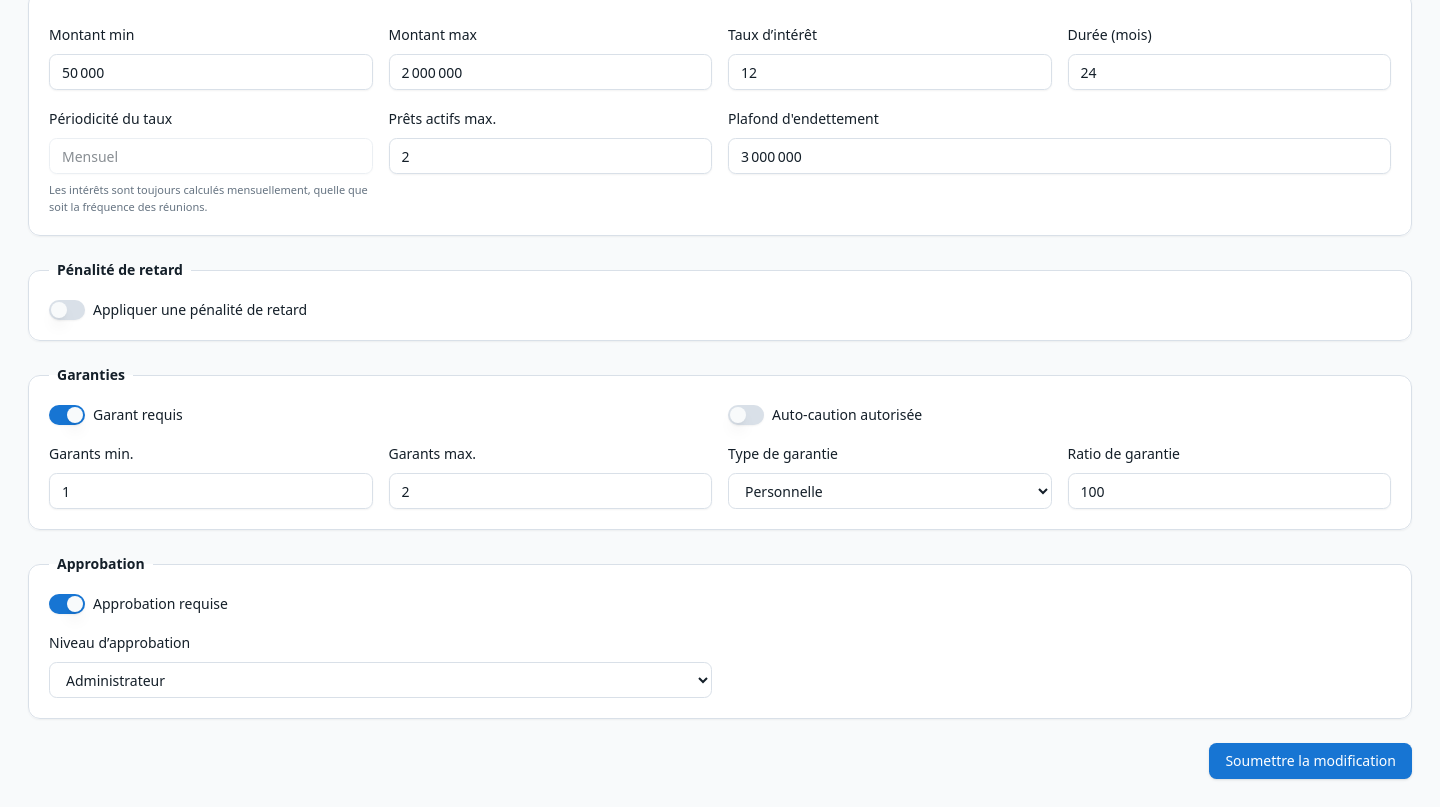
Scenario: Paramètres → Règle de crédit (règle unique du tenant) › Garanties : « Garant requis » conditionne l’affichage des paramètres de garantie › ON → OFF : les champs disparaissent immédiatement ; OFF → ON : ils réapparaissent avec les valeurs saisies
(page scrolled)
Replace the text in the number field labelled "Ratio de garantie" with "80" at coordinates (1229, 491), box [1068, 473, 1391, 509]
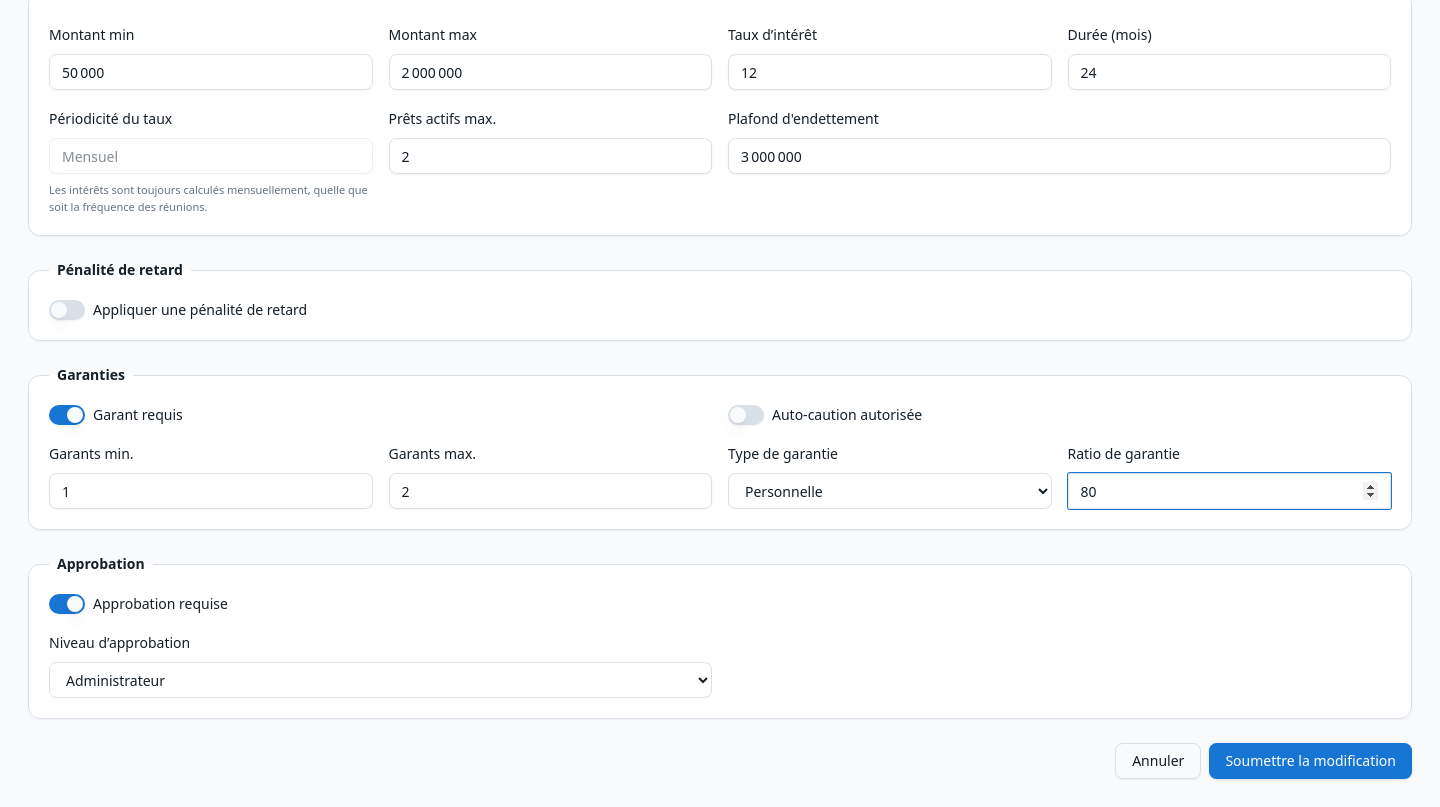
Click the switch named "Garant requis" next to "Garant requis" at coordinates (67, 415), box [49, 405, 85, 425]
(page scrolled)
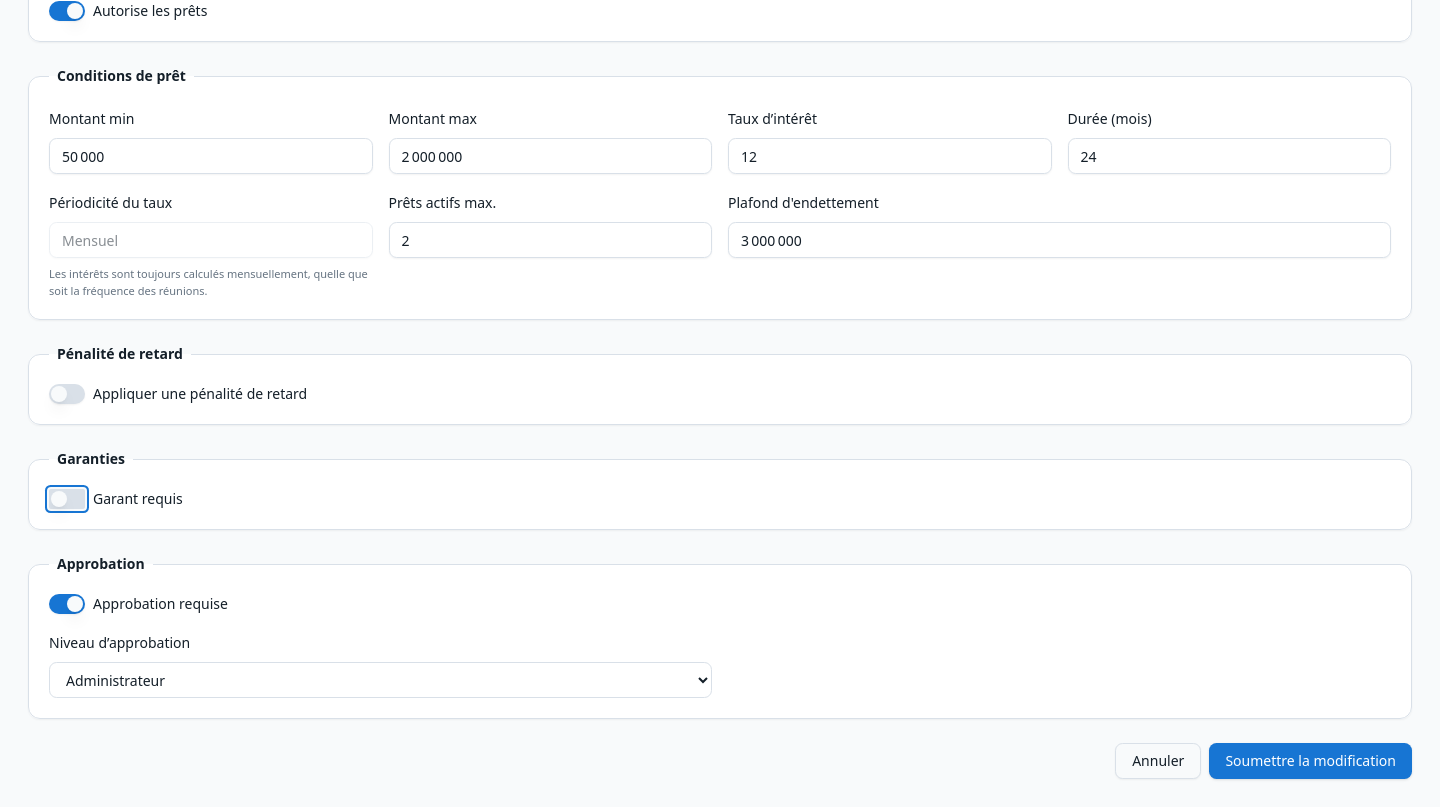
Expected: the label labelled "Auto-caution autorisée" is gone
Expected: the label labelled "Garants min." is gone
Expected: the label labelled "Garants max." is gone
Click the switch named "Garant requis" next to "Garant requis" at coordinates (67, 499), box [49, 489, 85, 509]
(page scrolled)
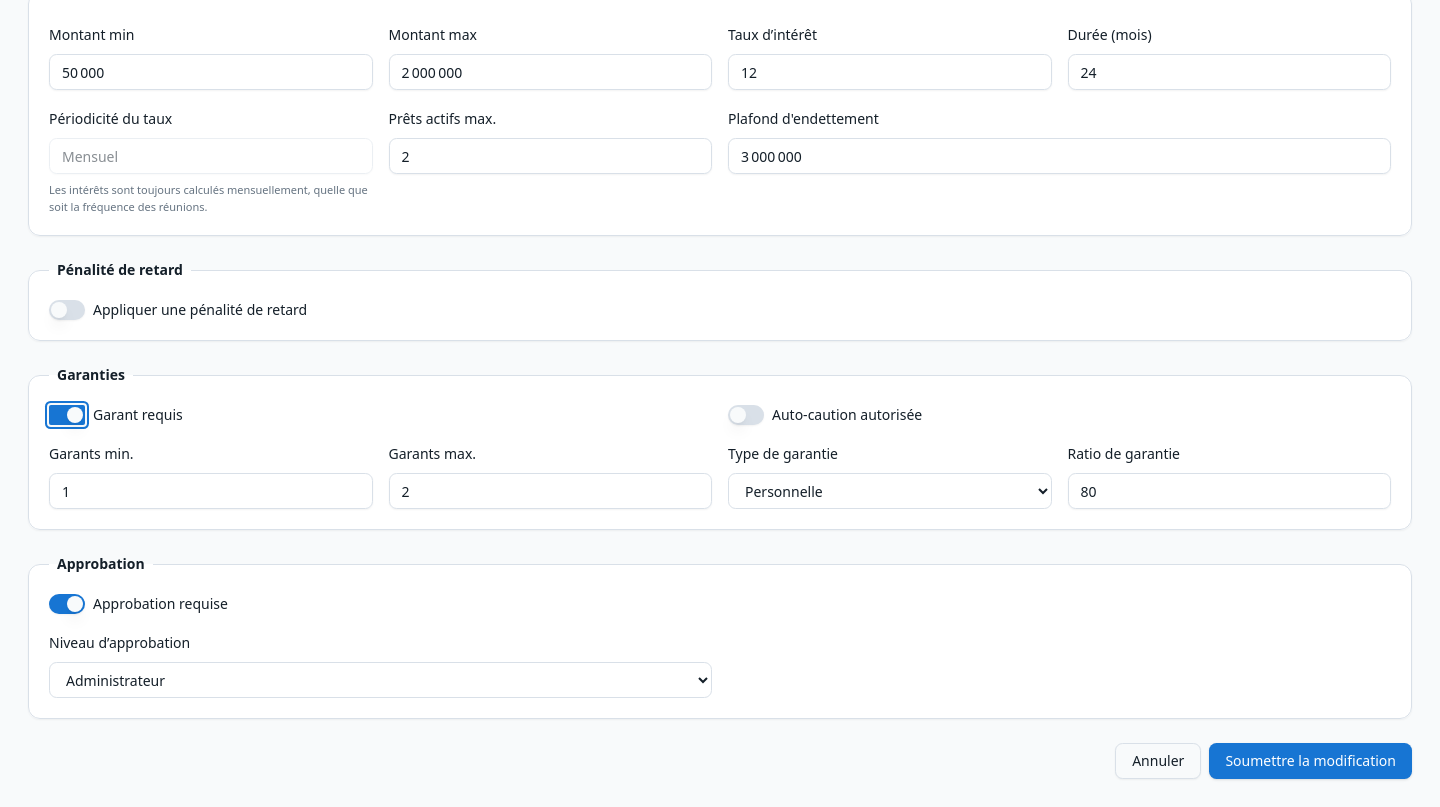
Expected: the switch named "Auto-caution autorisée" next to "Auto-caution autorisée" is shown, [728, 405, 764, 425]
Expected: the dropdown labelled "Type de garantie" is shown, [728, 473, 1052, 509]
Expected: the number field labelled "Ratio de garantie" holds "80", [1068, 473, 1391, 509]
